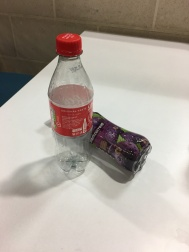bottle_red: (45, 30, 95, 184)
